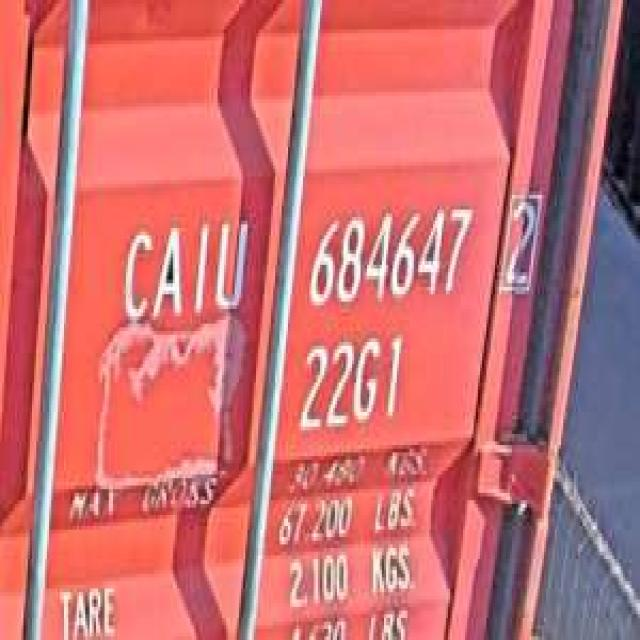dv: (497, 180, 544, 298)
owner: (115, 206, 252, 331)
serial: (301, 195, 474, 313)
size: (294, 327, 406, 438)
